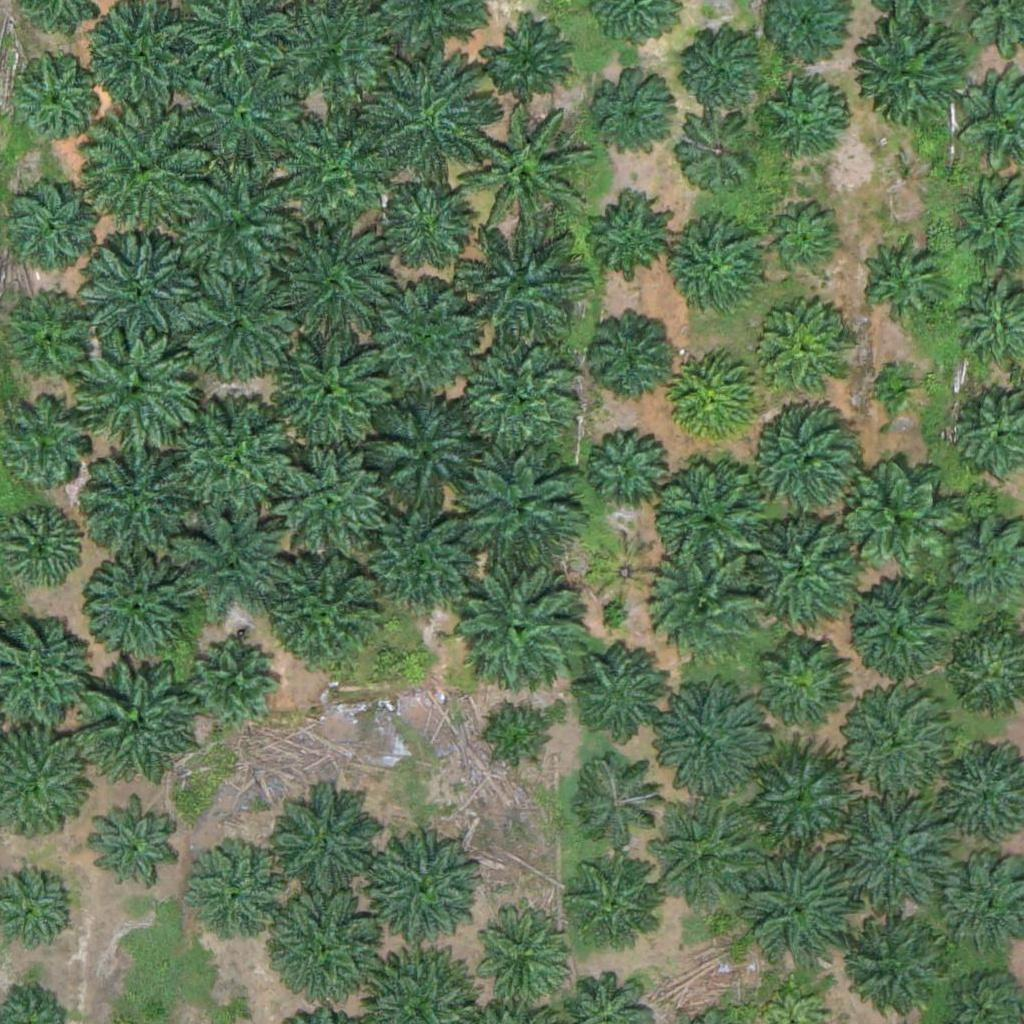Kelapa_Sawit: (276, 114, 401, 240), (276, 226, 401, 352), (270, 336, 395, 462), (264, 549, 389, 675), (174, 500, 299, 626), (170, 396, 295, 522), (177, 163, 302, 289), (182, 55, 307, 181), (79, 224, 204, 350), (75, 329, 200, 455), (73, 662, 198, 788), (361, 57, 486, 183), (361, 283, 486, 409), (358, 390, 483, 516), (359, 499, 484, 625), (453, 454, 578, 580), (461, 566, 586, 692), (461, 226, 586, 352), (458, 110, 583, 236), (640, 542, 765, 668), (746, 398, 871, 524), (743, 514, 868, 640), (838, 454, 963, 580), (641, 678, 766, 804), (260, 434, 385, 559), (174, 266, 299, 391), (91, 106, 216, 231), (456, 329, 581, 454), (835, 797, 960, 922), (78, 453, 191, 566), (83, 556, 196, 669), (272, 796, 385, 909), (265, 893, 378, 1006), (472, 902, 584, 1016), (653, 456, 765, 570), (187, 844, 287, 945), (374, 839, 474, 940), (755, 636, 855, 737), (848, 581, 948, 682), (867, 22, 967, 123), (660, 805, 760, 906), (754, 861, 854, 962), (841, 918, 941, 1019), (847, 697, 947, 798), (566, 640, 666, 740), (671, 222, 771, 322), (558, 756, 658, 856), (563, 856, 663, 956), (754, 760, 854, 860), (10, 176, 98, 264), (386, 182, 474, 270), (594, 76, 682, 164), (582, 188, 670, 276), (586, 305, 674, 393), (672, 353, 760, 441), (758, 311, 846, 399), (486, 14, 573, 103), (679, 23, 766, 111), (190, 636, 277, 724), (2, 499, 89, 587), (10, 294, 97, 382), (17, 53, 104, 141), (88, 799, 175, 887), (585, 424, 672, 512), (674, 104, 761, 192), (765, 85, 852, 173), (859, 235, 946, 323), (475, 701, 550, 777), (770, 201, 845, 276), (592, 537, 654, 600), (872, 360, 922, 410)
